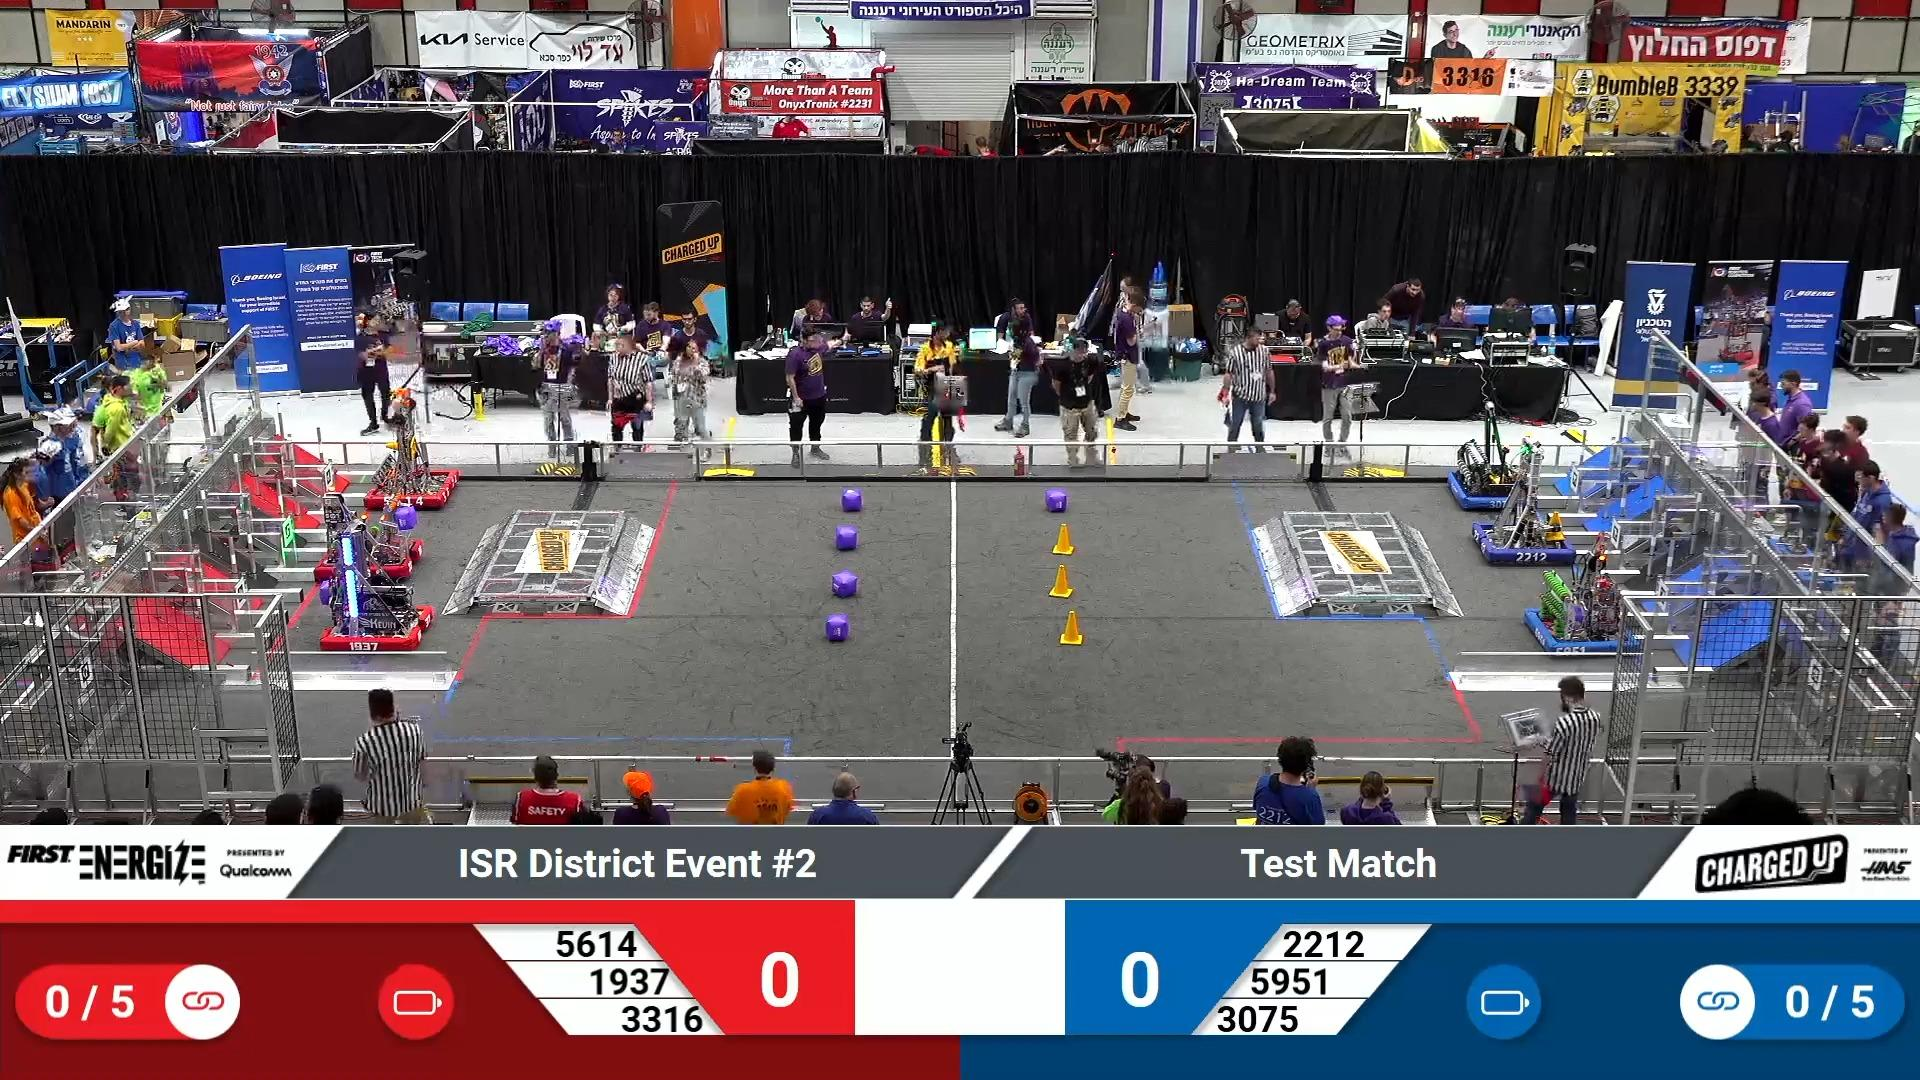robot: (316, 517, 433, 650), (1472, 434, 1588, 564), (1522, 527, 1631, 654), (361, 386, 460, 510), (313, 489, 425, 583), (1448, 398, 1536, 510)
